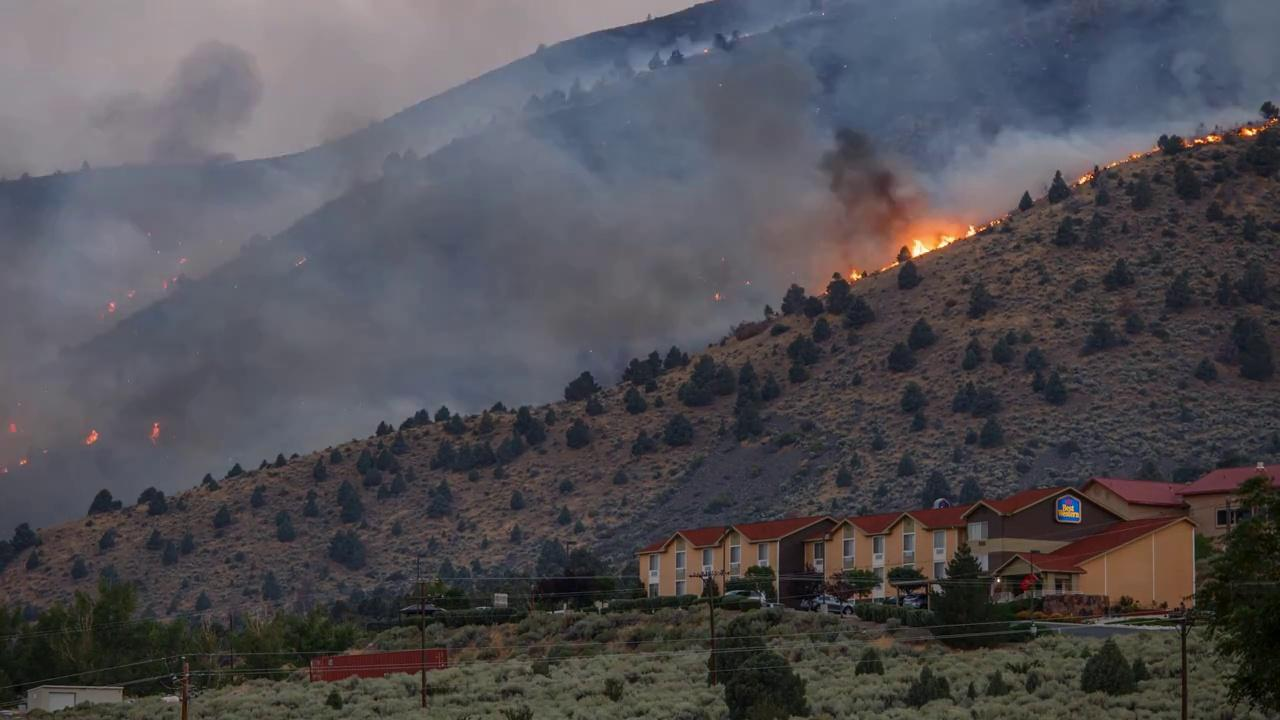fire: (908, 232, 970, 260)
smoke: (470, 206, 698, 320)
